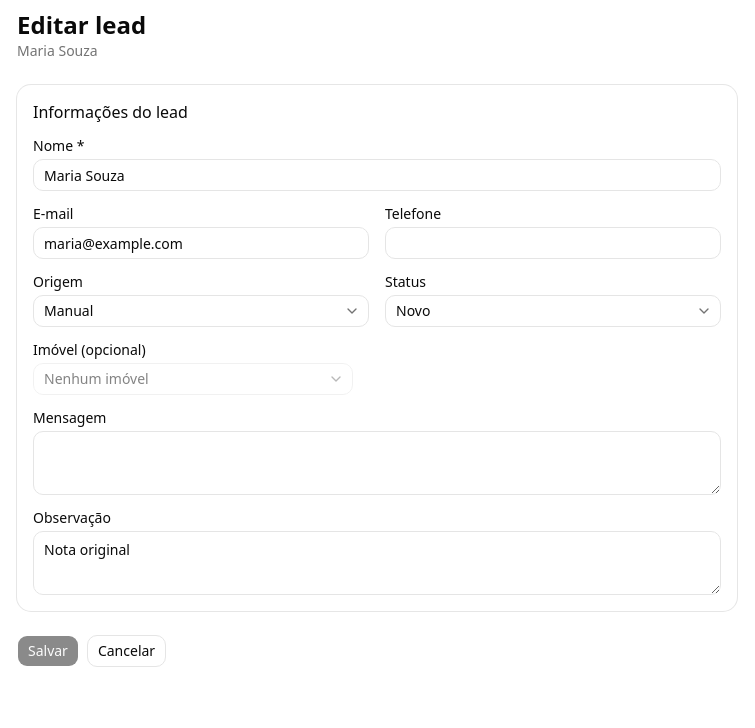
Test: EditLeadPage › shows a safe error message and stays on the page when the mutation fails
The image size is (755, 728).
Expected: the field labelled "Nome *" is shown, [33,159,721,191]
Replace the text in the text box labelled "Observação" with "Nova nota": x=377, y=563 [33,531,721,595]
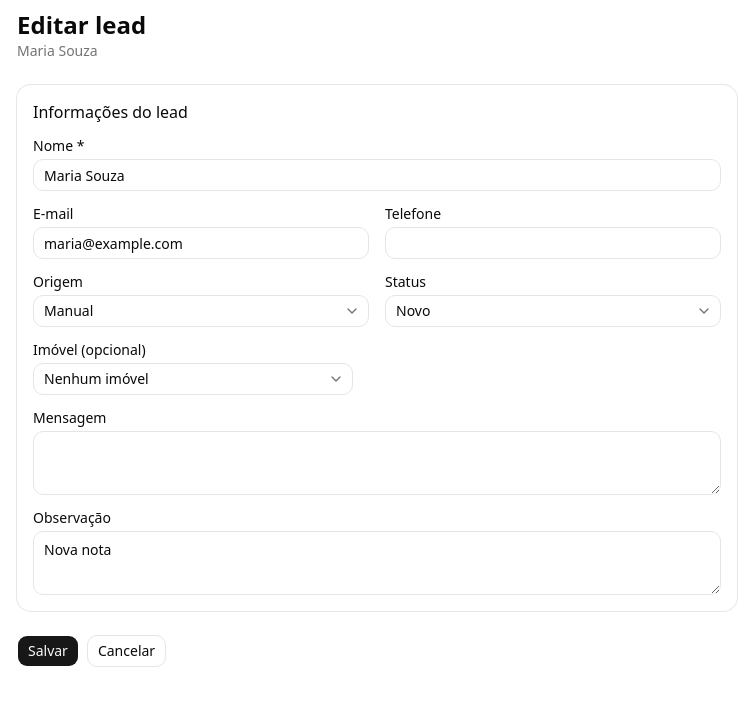
Click the button "Salvar": x=48, y=651 [17,635,79,667]
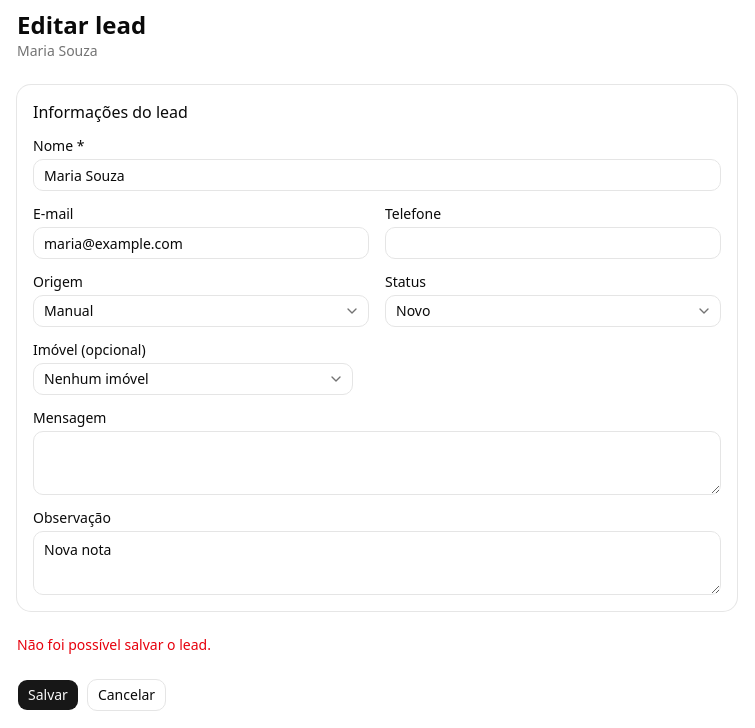
Now the text "Não foi possível salvar o lead." is shown, box [17,635,211,654]
